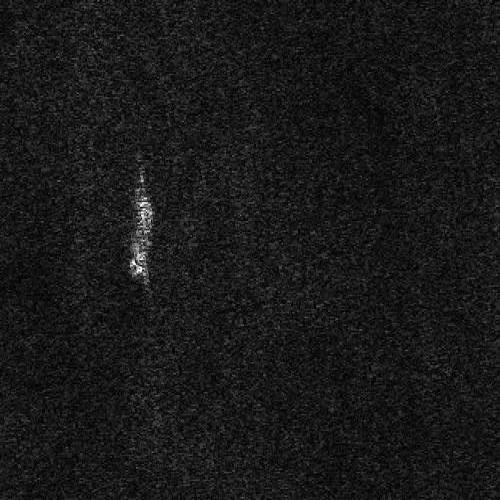ship: (129, 191, 153, 281)
